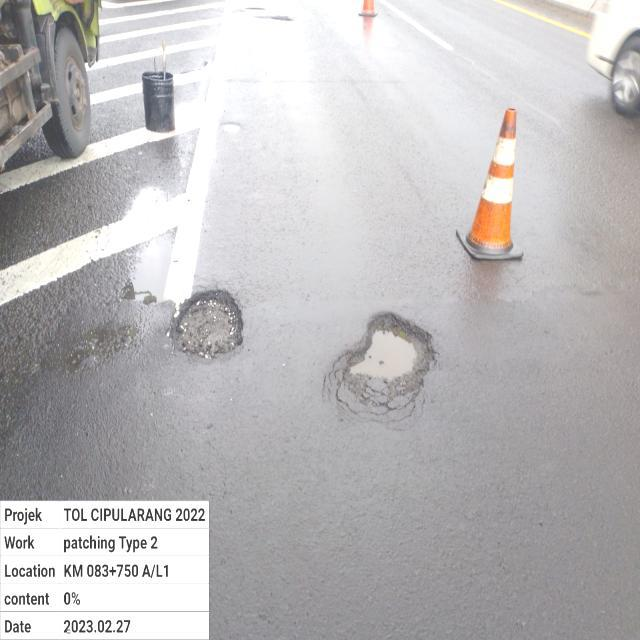Buraco: (339, 310, 438, 413), (166, 286, 246, 362), (217, 120, 244, 136)
